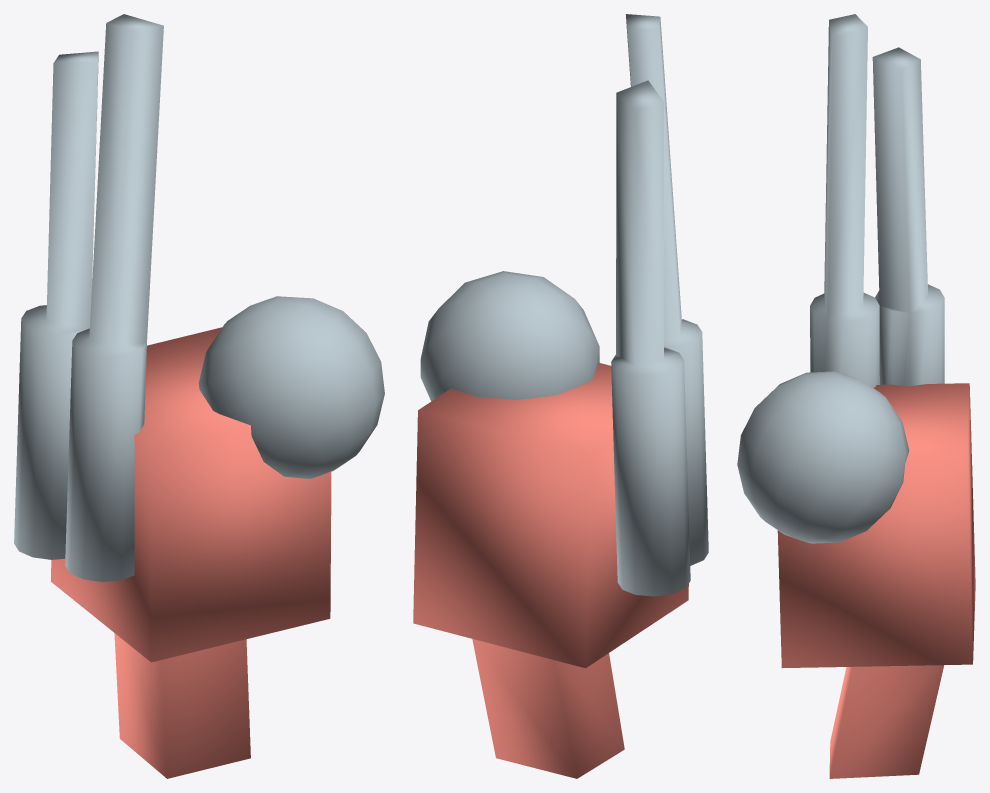
The model's file is shoulder_left.gltf.
3 views of the same model, side by side, from view 1: azimuth 30°, elevation 25°; view 2: azimuth 150°, elevation 25°; view 3: azimuth 270°, elevation 25° (orthographic). The views are drawn at different scales.
Parts seen in each view (by area): view 1: group441067920; view 2: group441067920; view 3: group441067920.
Boxes of the visible parts, x1,y1,x2,y2 form: group441067920: [14, 14, 384, 778]; group441067920: [413, 14, 708, 778]; group441067920: [737, 14, 975, 778].
Bounding box in the file's own units: 0.1181 × 0.2788 × 0.0853.
